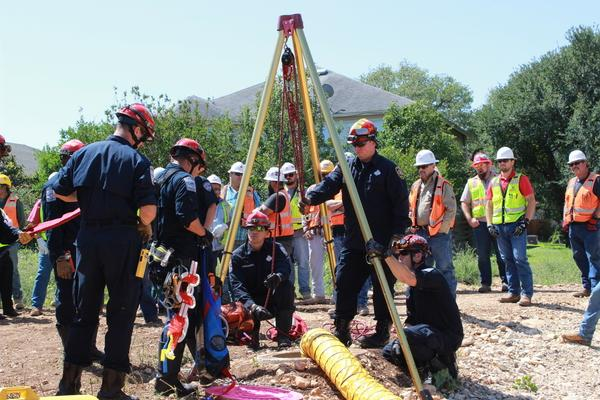helmet: (116, 103, 158, 142), (169, 137, 211, 170), (392, 235, 433, 257), (348, 118, 380, 146), (57, 139, 86, 160), (245, 212, 272, 231), (414, 150, 441, 168), (265, 167, 287, 185), (471, 152, 493, 168), (495, 147, 516, 163), (566, 151, 588, 166), (229, 161, 247, 176), (281, 162, 299, 177), (319, 160, 335, 175), (1, 174, 14, 190), (207, 174, 224, 186)
